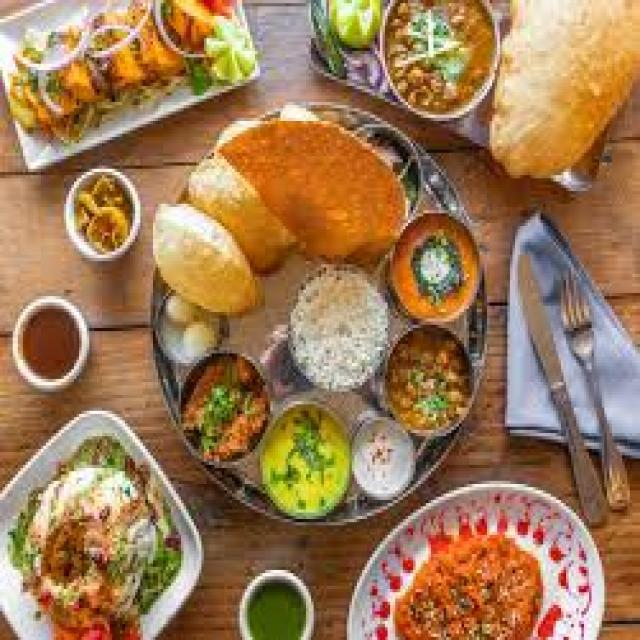raita: (346, 412, 422, 509)
rice: (285, 264, 392, 396)
roti: (188, 113, 413, 267), (493, 2, 622, 180)
sambar-rasam: (9, 297, 93, 382)
sweet: (70, 172, 139, 257)
veg-fry: (365, 492, 596, 640)
